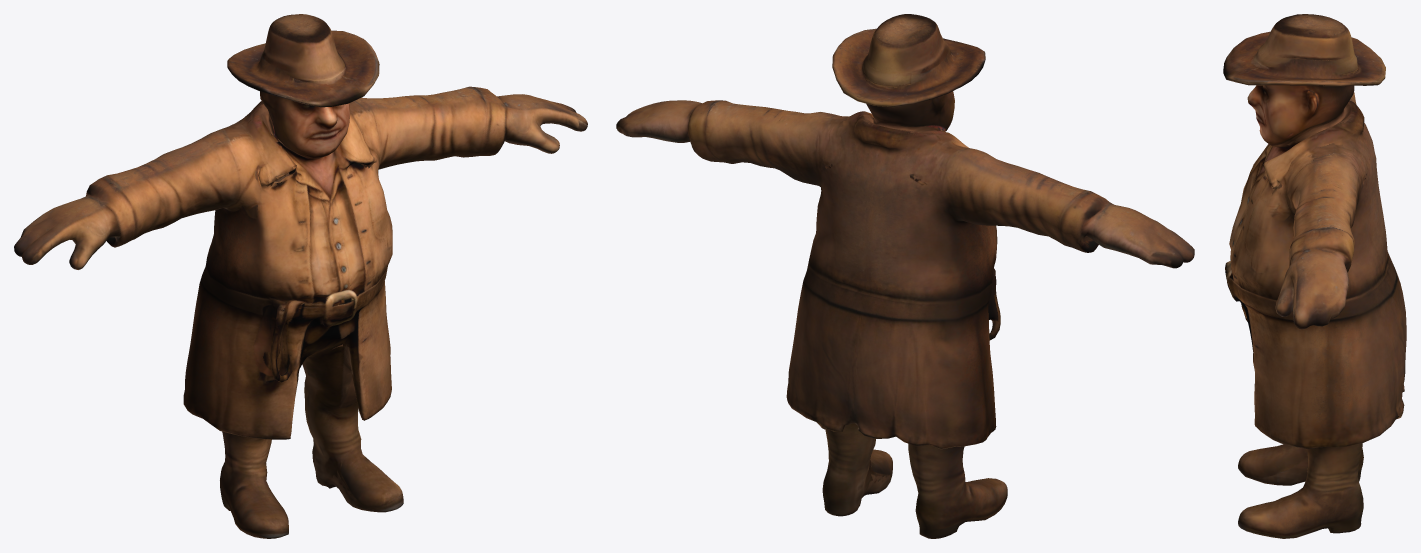
The model's file is Foreman.fbx.
3 renders of one model, left to right at view 1: azimuth 30°, elevation 25°; view 2: azimuth 150°, elevation 25°; view 3: azimuth 270°, elevation 25°, orthographic.
Parts seen in each view (by area): view 1: Mesh1.0; view 2: Mesh1.0; view 3: Mesh1.0.
Boxes of the visible parts, box(x1,y1,x2,y2) form: Mesh1.0: box(14, 14, 587, 538); Mesh1.0: box(616, 14, 1194, 538); Mesh1.0: box(1223, 14, 1406, 538).
Bounding box in the file's own units: 200 × 163 × 56.22.
1 material, 1 textured.
